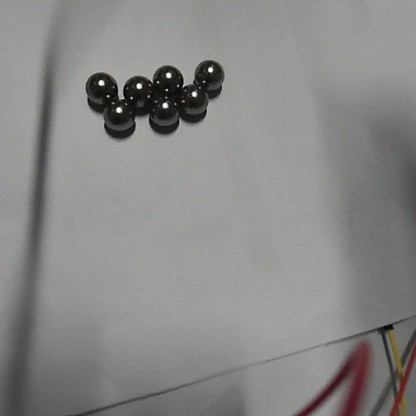ironball: (79, 67, 119, 105), (100, 97, 139, 134), (145, 94, 182, 131), (150, 62, 185, 99), (191, 58, 225, 93), (175, 85, 211, 118), (123, 74, 155, 109)
